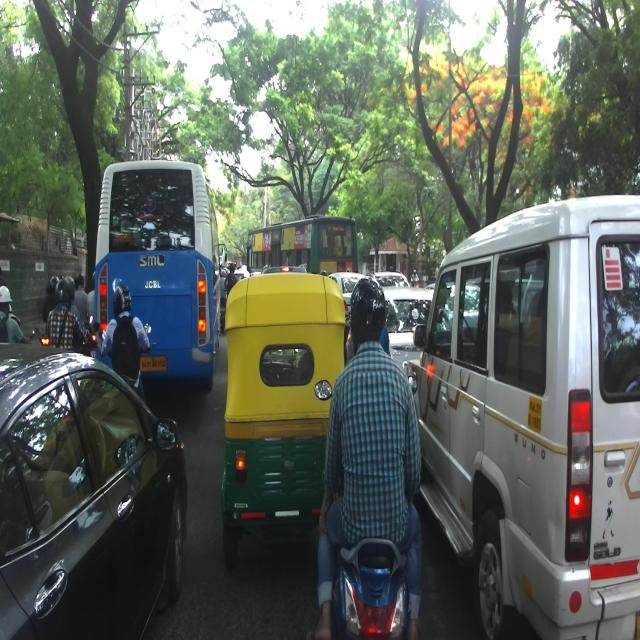autorickshaw: (221, 271, 346, 571)
bus: (92, 160, 227, 391), (246, 214, 360, 277)
car: (402, 194, 640, 640), (0, 342, 188, 639), (327, 265, 367, 341)
scooter: (314, 375, 418, 638)
